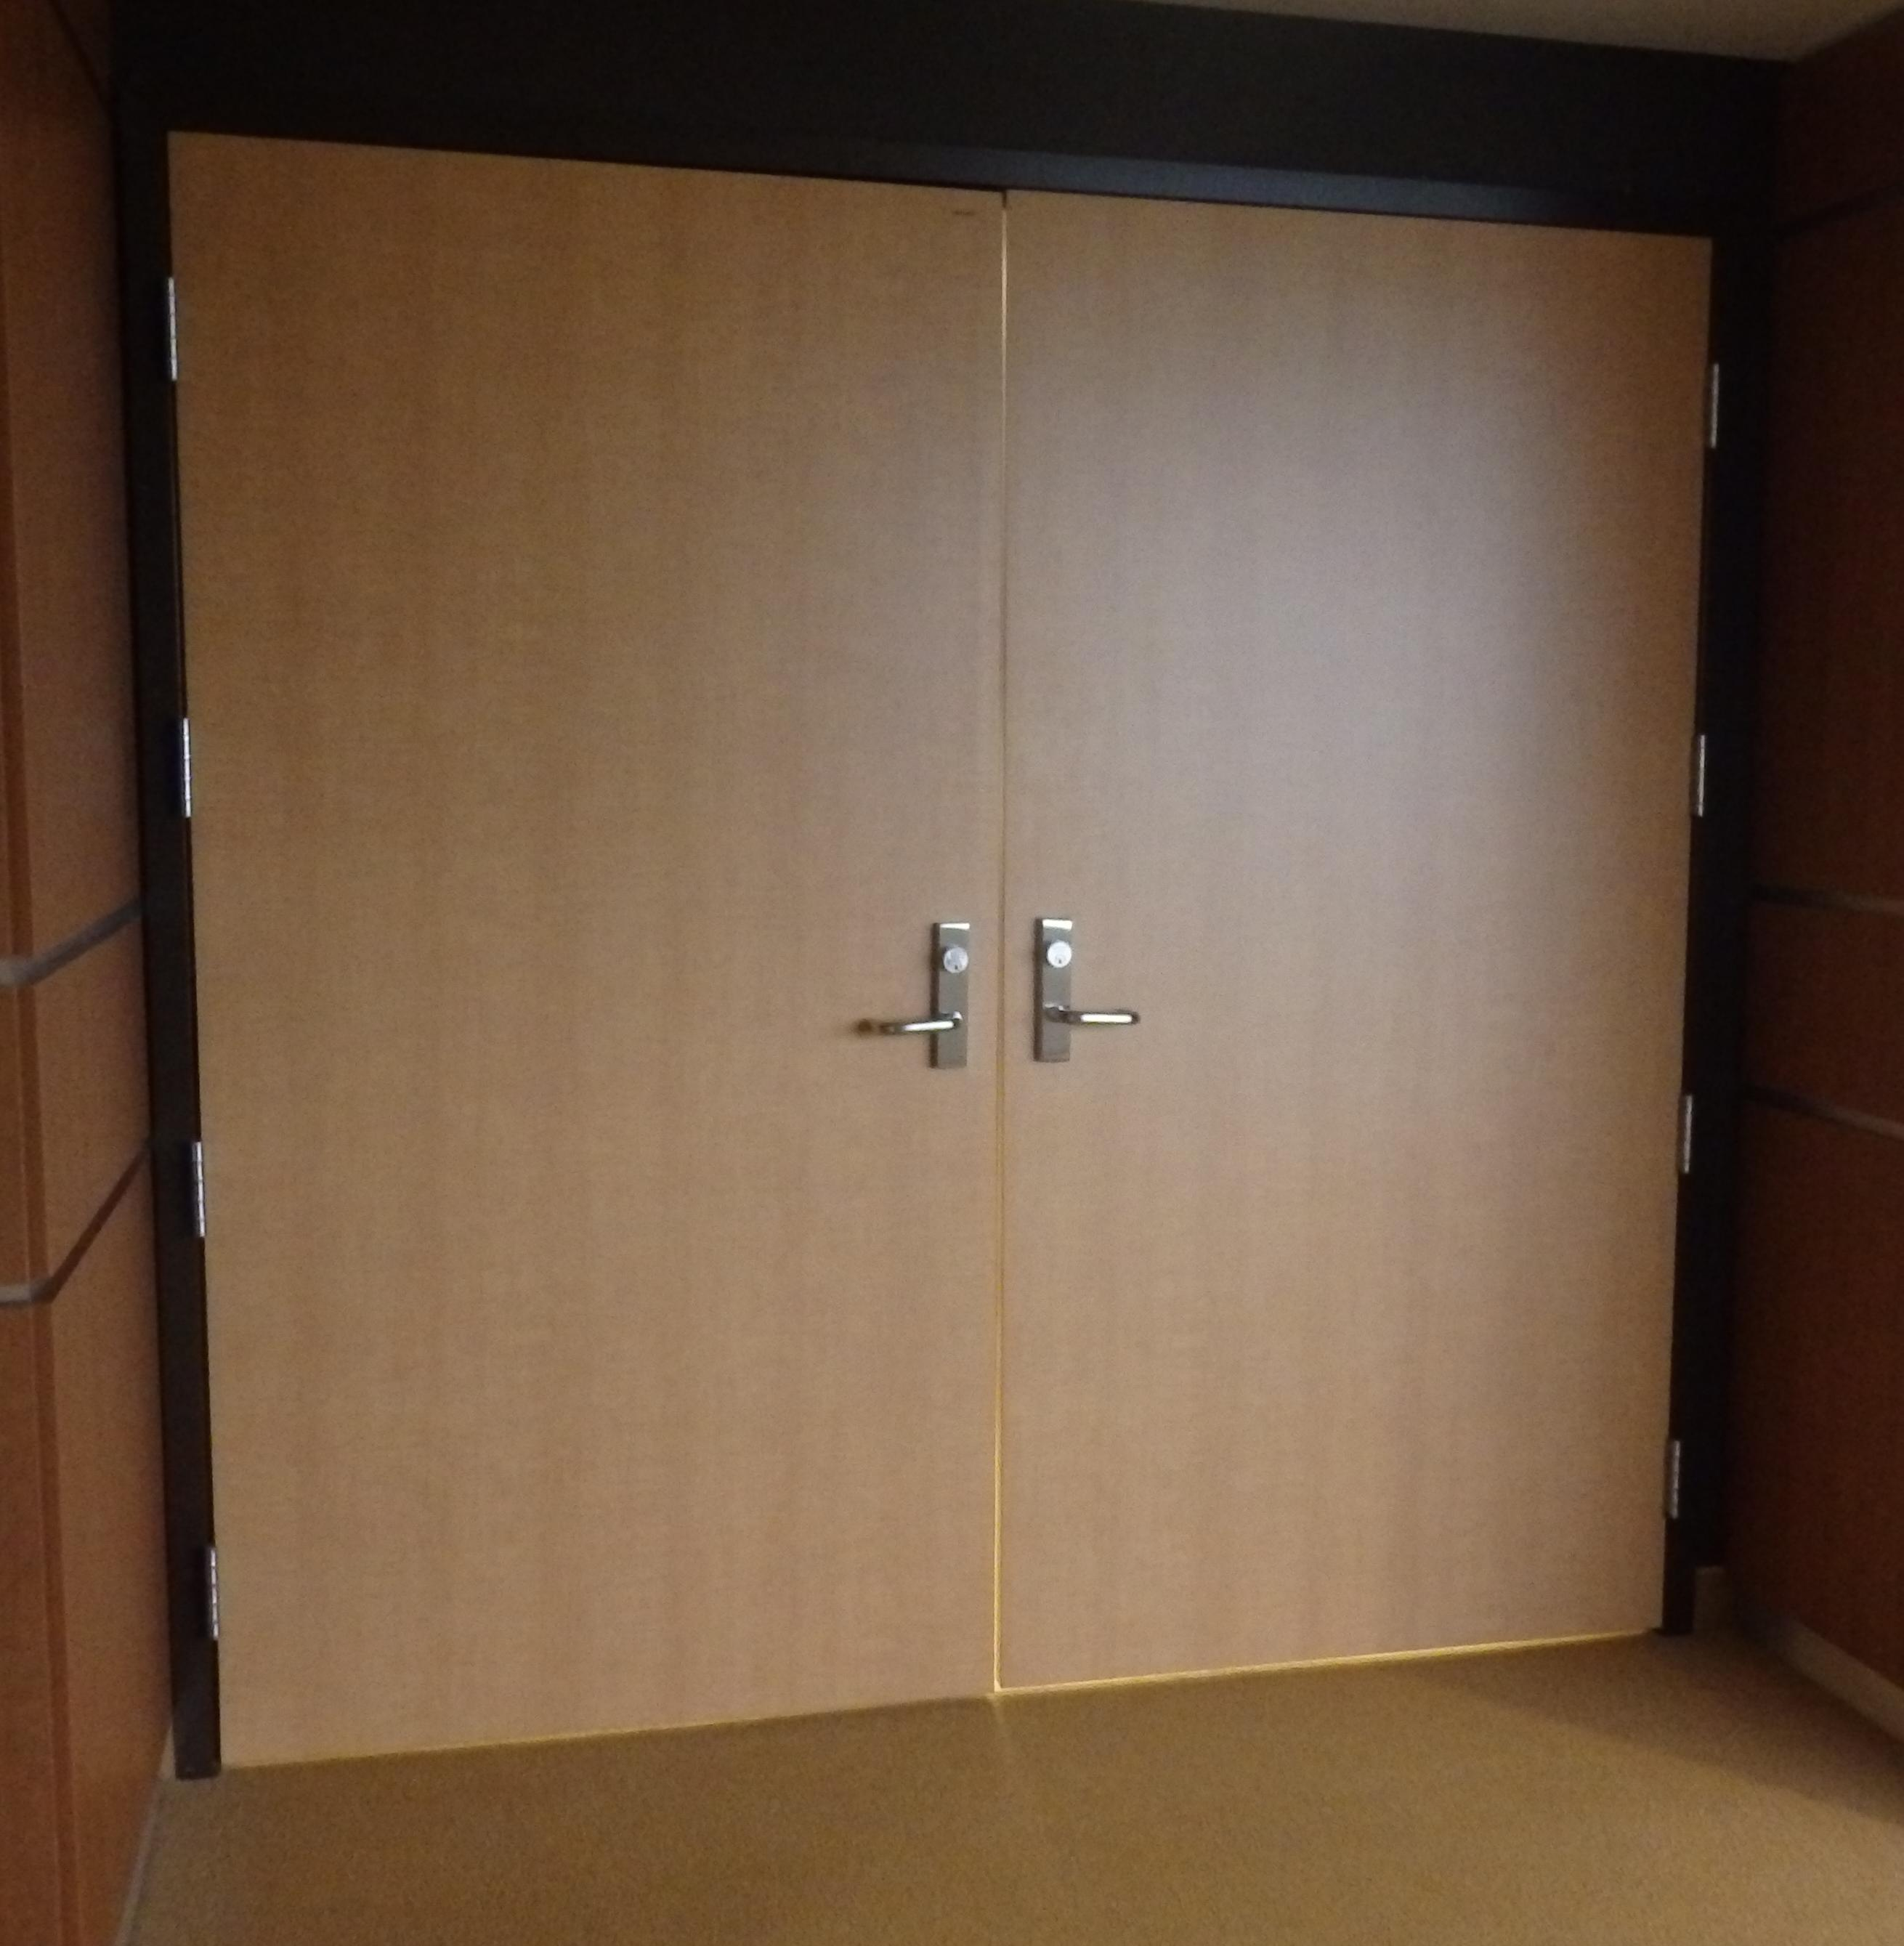door: (159, 113, 1693, 1742)
